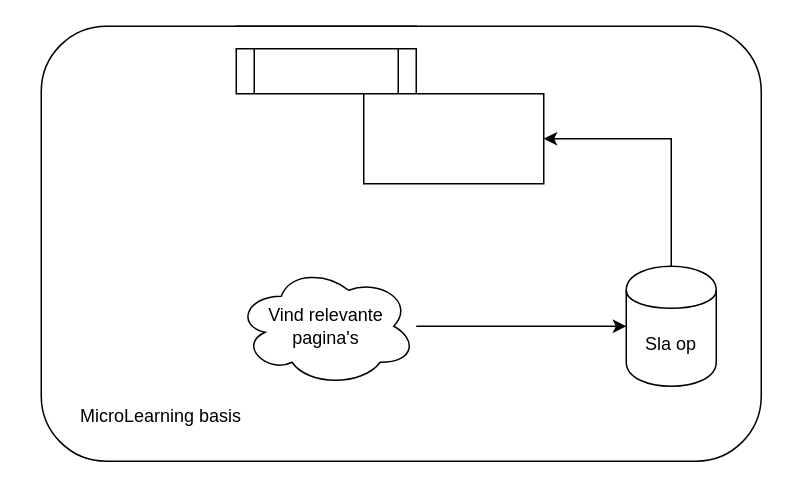
Image size: 788x488. Some labels were removed from this diagram. The shapes that lost their labels are listed below. From the top down, each one's box as (x1, y1, x2, y2) in pixels, then its label:
(235, 47, 416, 94): kies onderwerp
(362, 92, 544, 184): Toon pagina
